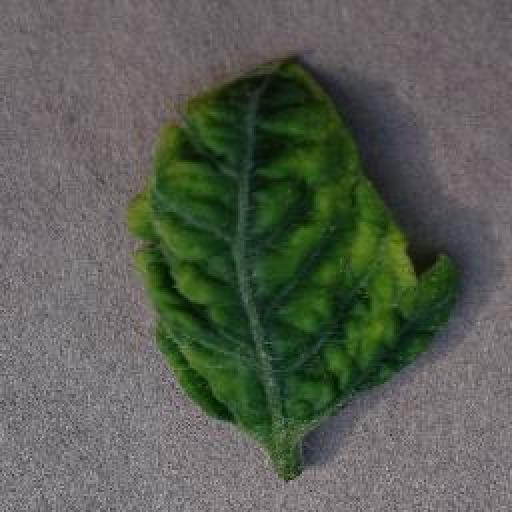disease_tomato: (134, 55, 459, 433)
